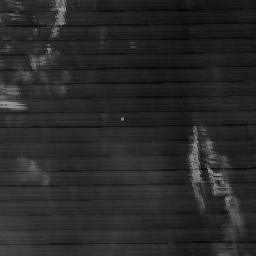Target: (119, 116, 125, 123)
